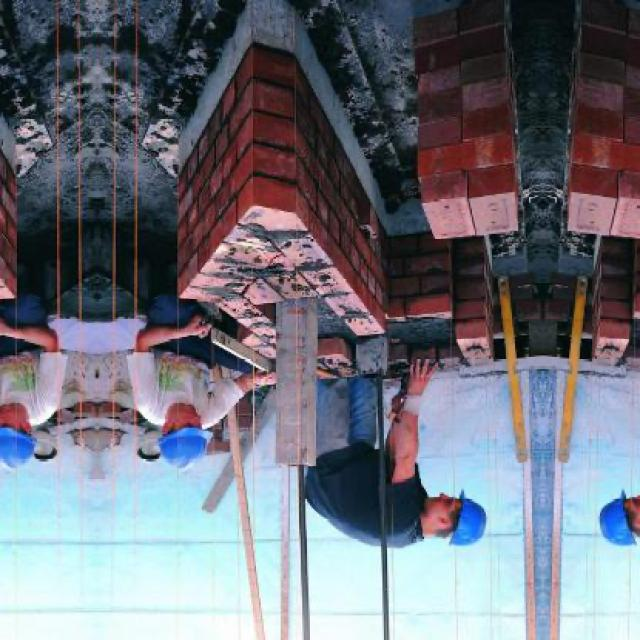con casco: (384, 475, 492, 561), (149, 397, 209, 474)
